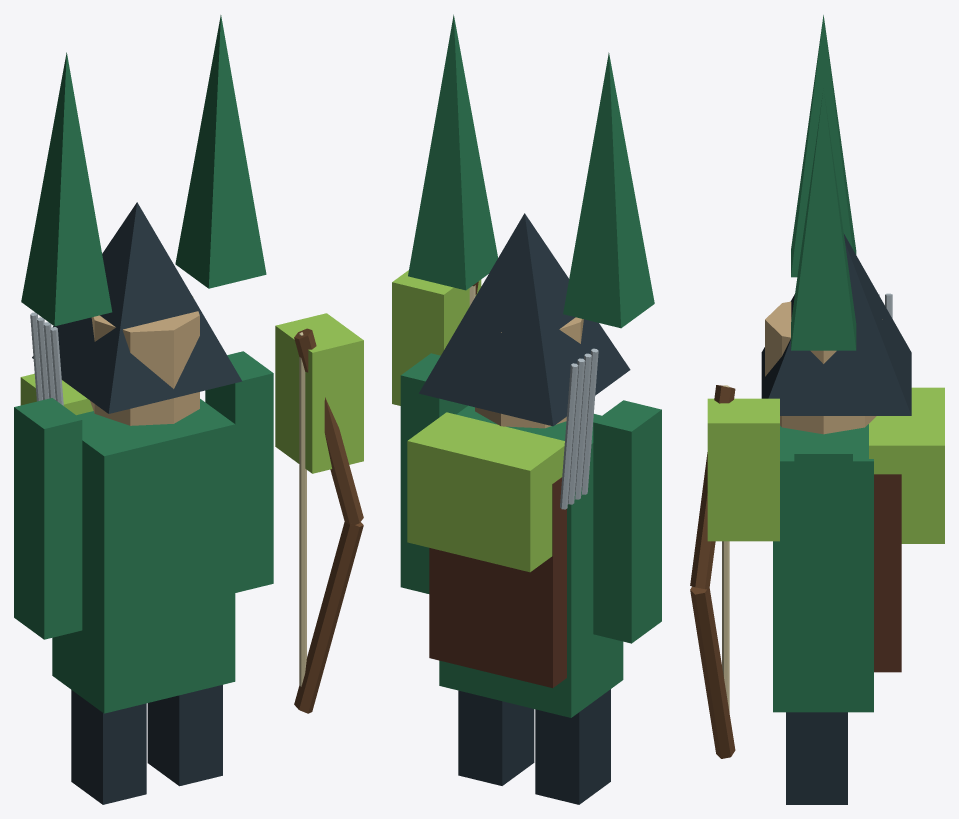
The model's file is ranged.obj.
3 views of the same model, side by side, from view 1: azimuth 30°, elevation 25°; view 2: azimuth 150°, elevation 25°; view 3: azimuth 270°, elevation 25° (orthographic). The views are drawn at different scales.
Parts seen in each view (by area): view 1: ranged; view 2: ranged; view 3: ranged.
Boxes of the visible parts, x1=… form: ranged: x1=14, y1=15, x2=363, y2=804; ranged: x1=392, y1=14, x2=661, y2=804; ranged: x1=690, y1=15, x2=944, y2=804.
Bounding box in the file's own units: 0.857 × 2.21 × 0.7036.
